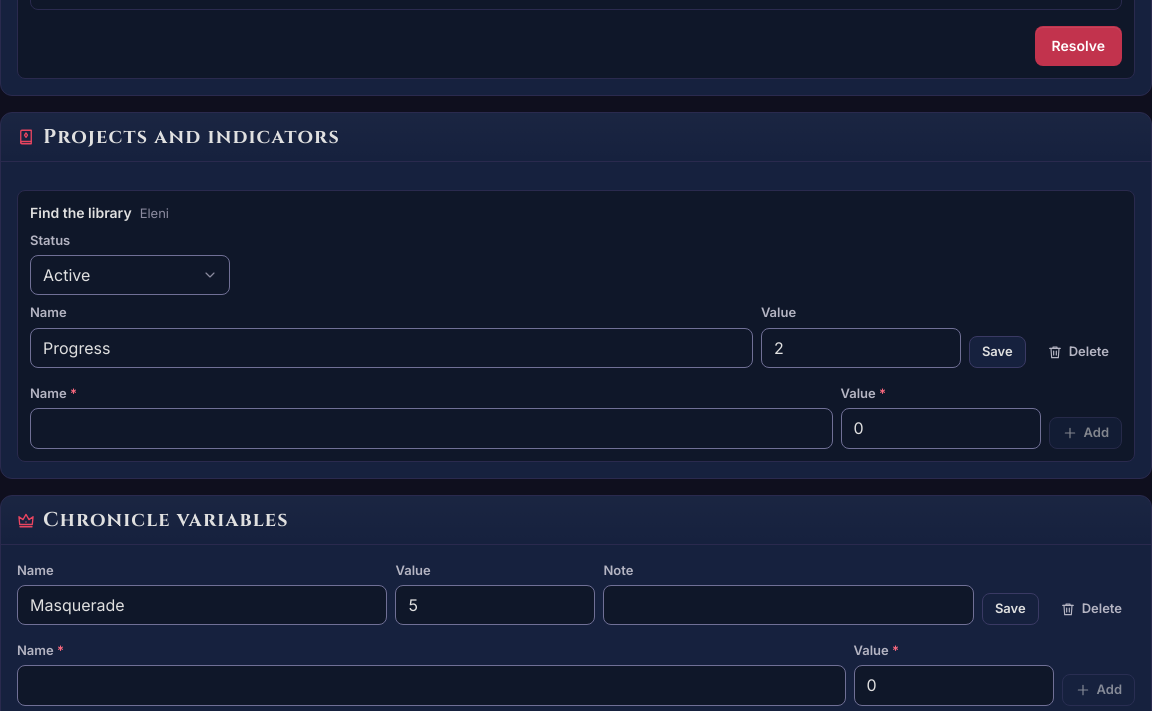
it: storyteller view, review cases › deleting an indicator asks first; a cleared value cannot be saved
The image size is (1152, 711).
(page scrolled)
Click the button with aria-label "Delete Progress".
click(1078, 352)  # box [1034, 336, 1122, 368]
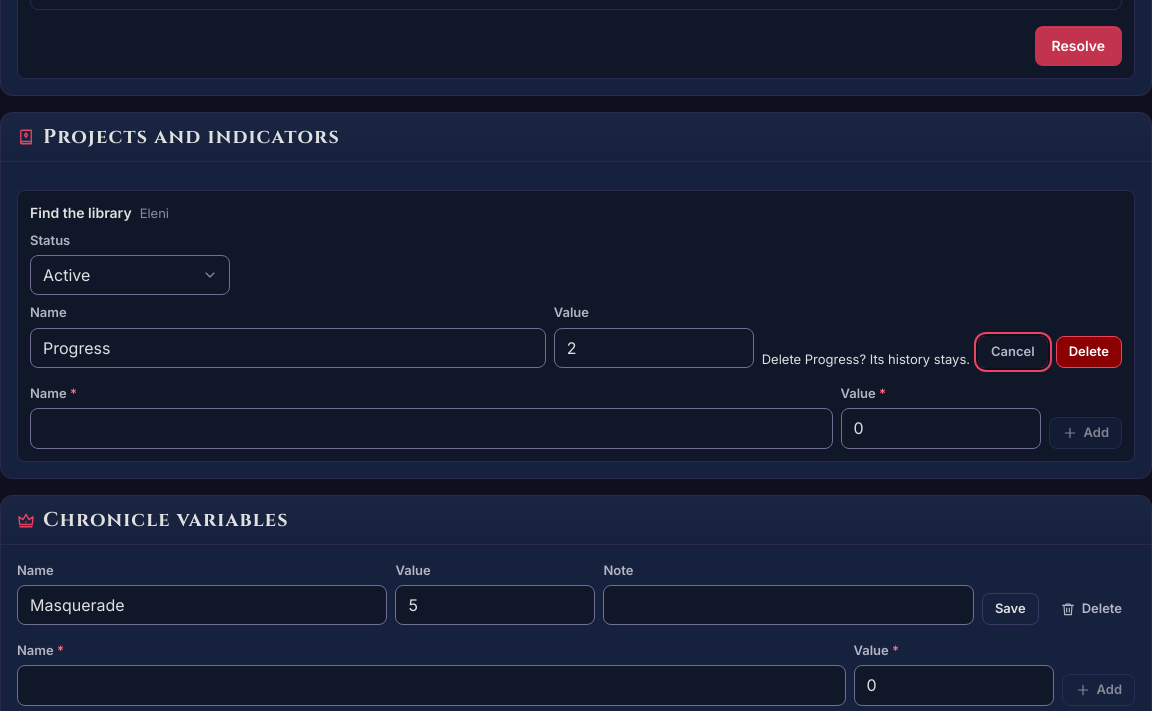
Check: the text "Delete Progress? Its history stays." is shown, box [762, 350, 970, 368]
Click the button with aria-label "Delete Progress".
click(1089, 352)  # box [1056, 336, 1122, 368]
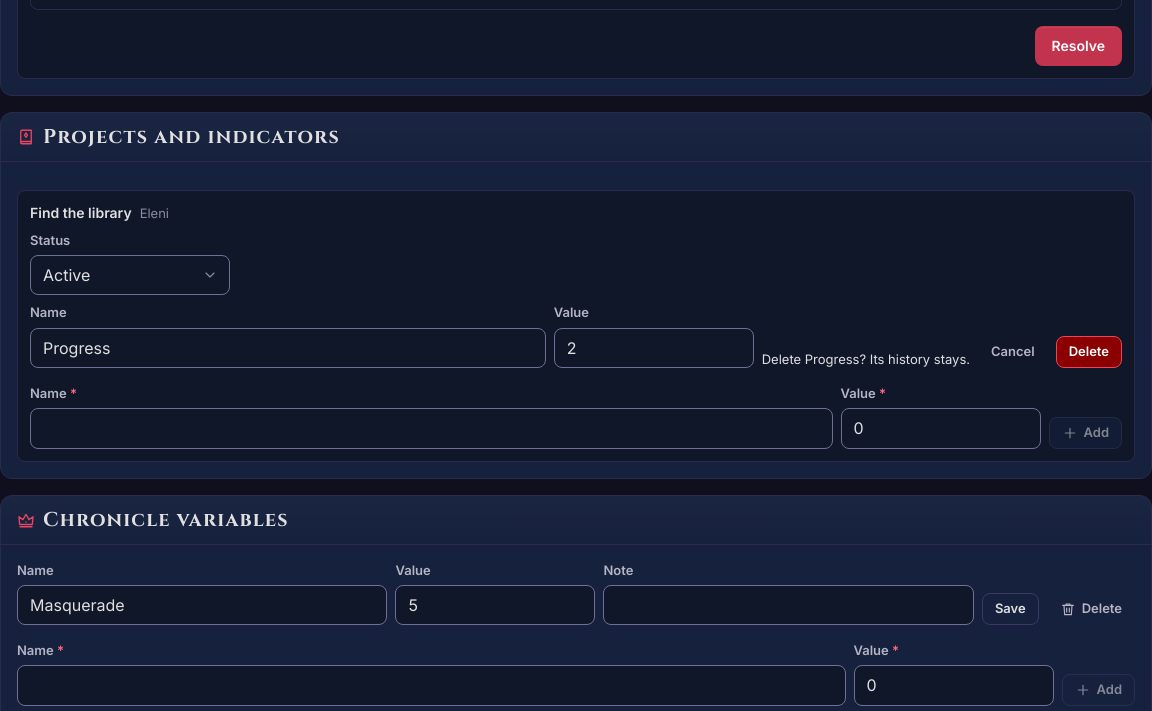
Clear the number field named "Value of Masquerade" at x=495, y=605, box [395, 585, 595, 625]
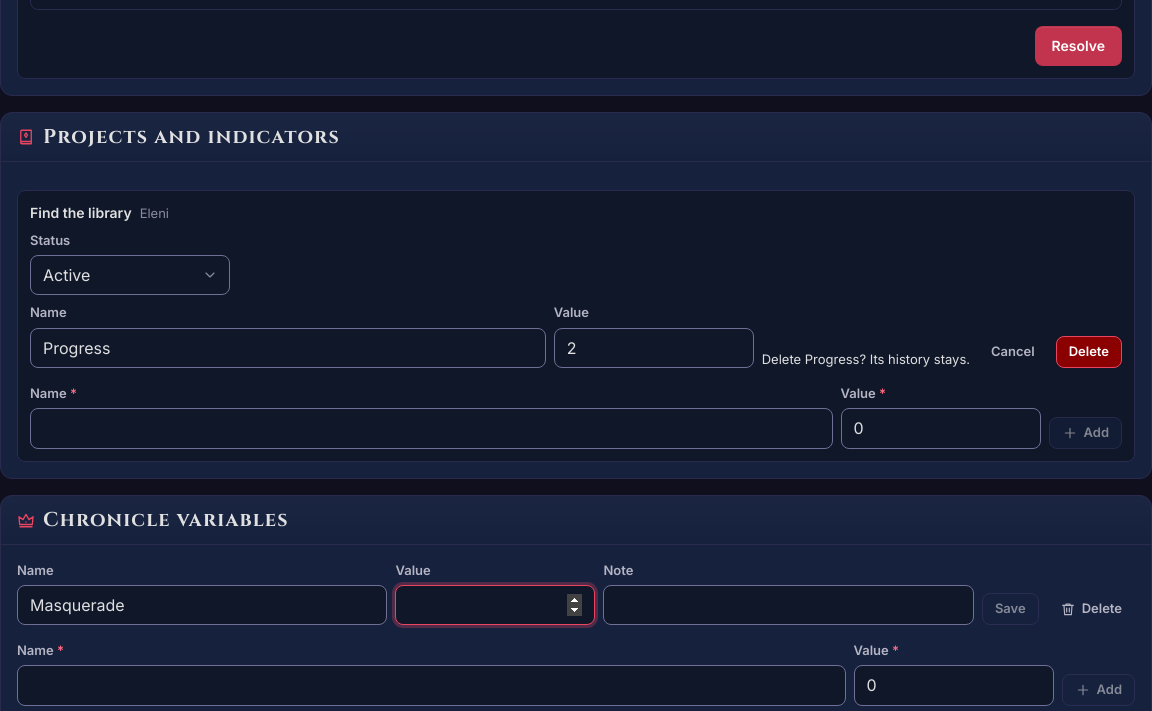
Check: the button with aria-label "Save Masquerade" is disabled, box [982, 593, 1039, 625]
